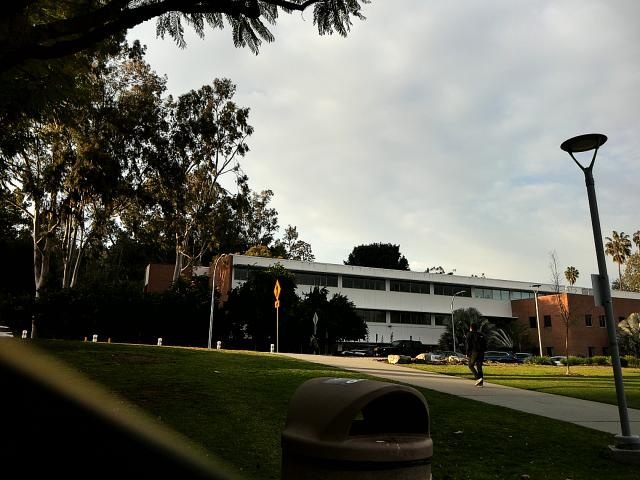trashcan: (281, 363, 440, 480)
